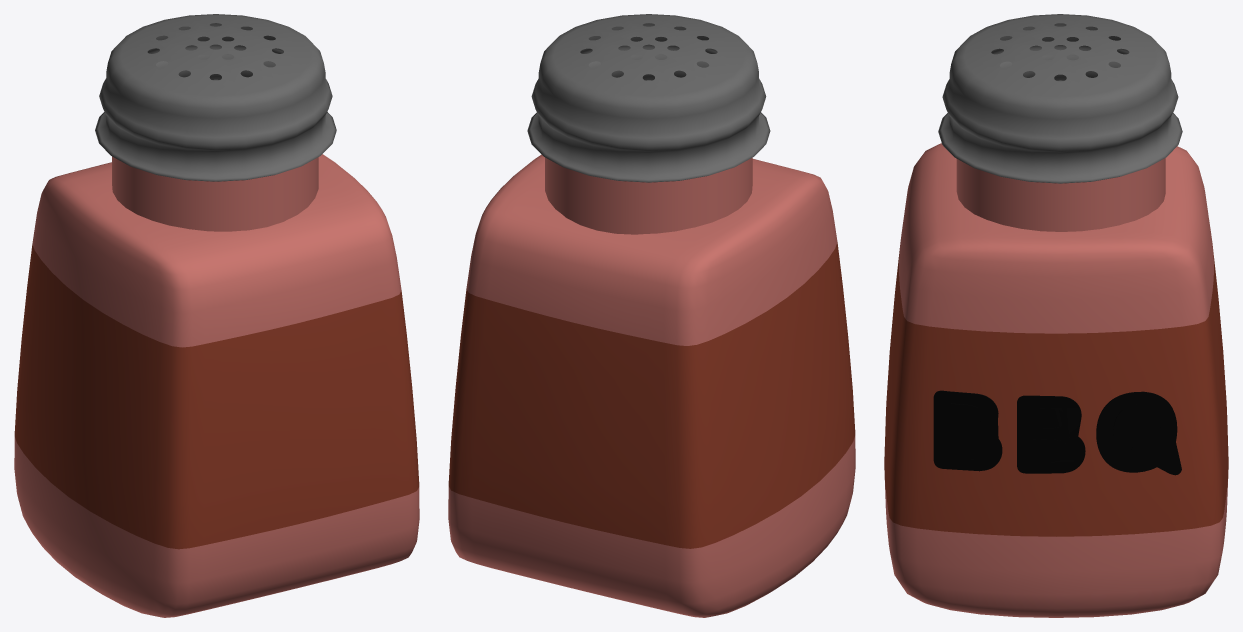
Rendered from POWDER BBQ.fbx.
3 views of the same model, side by side, from view 1: azimuth 30°, elevation 25°; view 2: azimuth 150°, elevation 25°; view 3: azimuth 270°, elevation 25° (orthographic).
Visible parts, largest first — view 1: Jar, Peeper, Cylinder; view 2: Jar, Peeper, Cylinder; view 3: Jar, Peeper, Text, Cylinder.
Boxes of the visible parts, left/top/right/bottom form: Jar: left=14, top=154, right=419, bottom=617; Peeper: left=95, top=14, right=336, bottom=181; Cylinder: left=112, top=156, right=318, bottom=231; Jar: left=448, top=154, right=855, bottom=617; Peeper: left=527, top=14, right=770, bottom=182; Cylinder: left=545, top=157, right=752, bottom=234; Jar: left=884, top=143, right=1228, bottom=617; Peeper: left=938, top=14, right=1182, bottom=183; Text: left=933, top=390, right=1181, bottom=475; Cylinder: left=956, top=158, right=1165, bottom=231.
Size of the model in its own units: 222 by 359 by 219.
